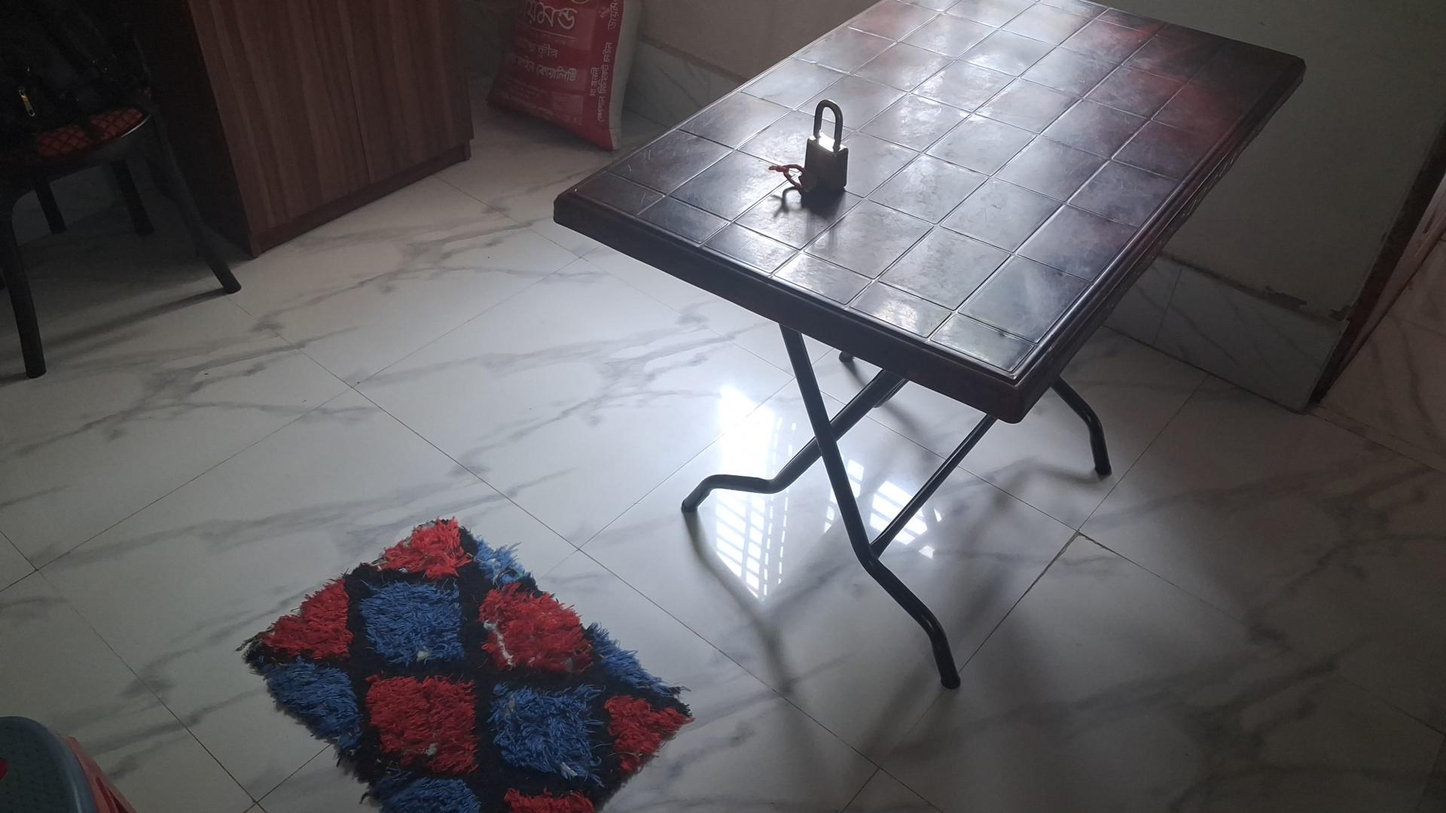Bag: (495, 7, 649, 148)
Chair: (0, 4, 243, 378)
Floor Mat: (244, 510, 689, 813)
Lock: (797, 98, 856, 212)
Table: (553, 0, 1306, 692)
